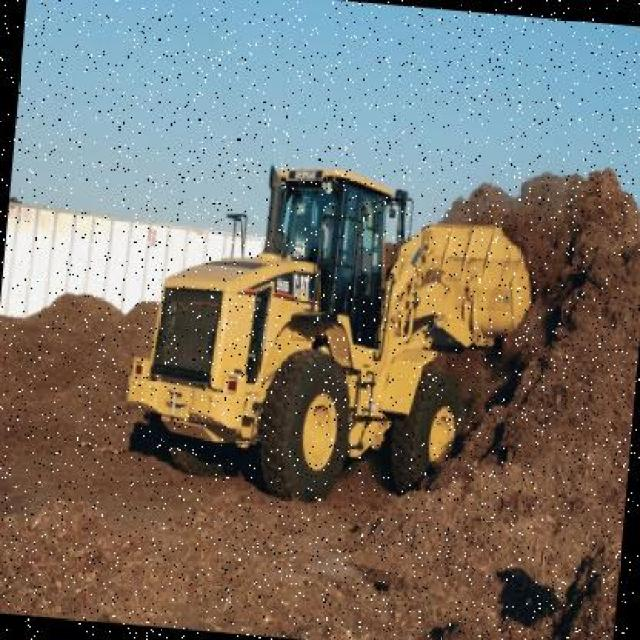buldozerpayloadergrader: (107, 125, 504, 501)
